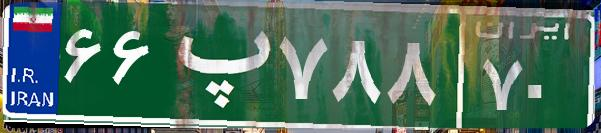0: (525, 38, 570, 115)
6: (57, 26, 110, 107), (110, 28, 158, 105)
7: (273, 28, 330, 110), (475, 38, 525, 113)
8: (385, 28, 445, 110), (330, 28, 385, 110)
پ: (158, 15, 273, 115)
